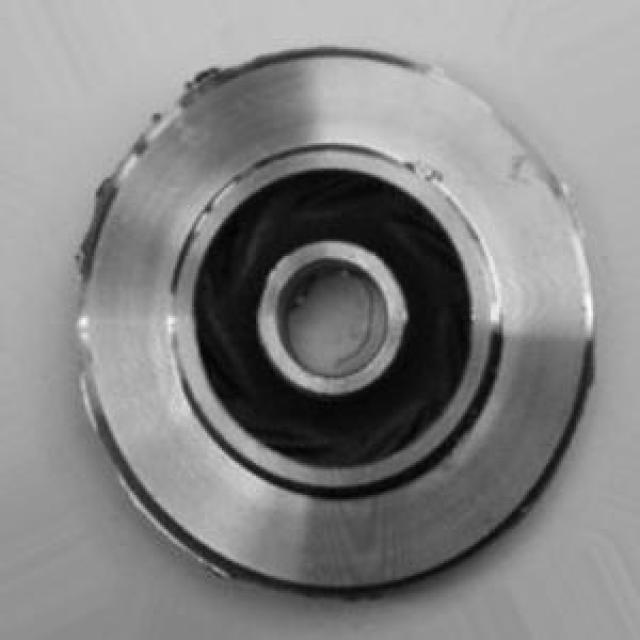Defect: (74, 171, 126, 256)
